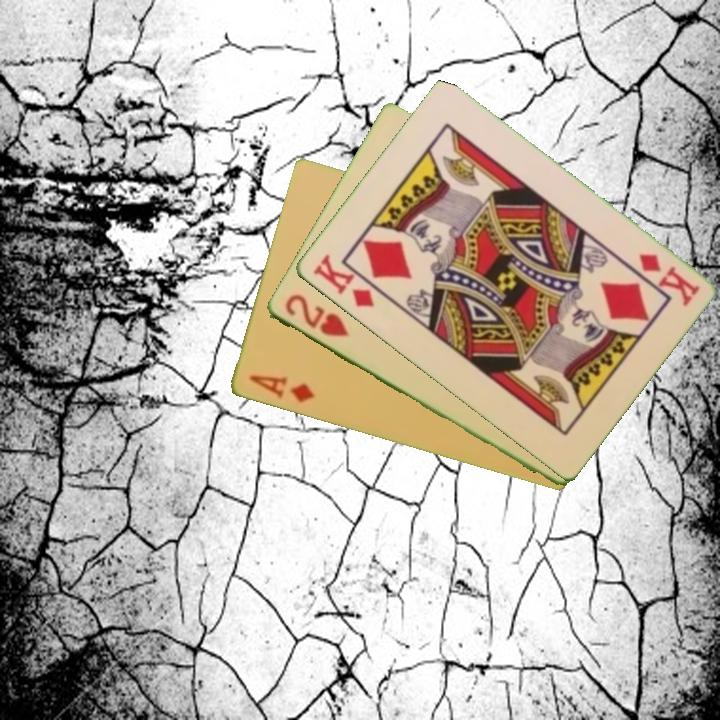2h: (280, 290, 352, 340)
Ad: (245, 371, 317, 407)
Kd: (308, 250, 377, 311), (634, 250, 702, 309)
